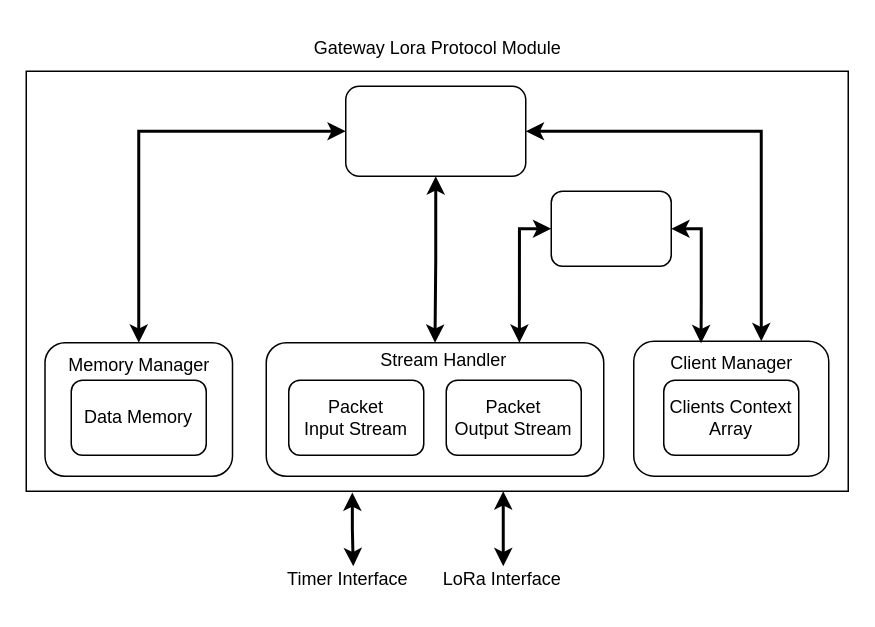
This 875x627 diagram has some shape labels left out. The shapes that lost their labels are listed below. From the top down, each one's centre as x and y in pixels, then its label:
pixel 435 130: Protocol Finite State Machine
pixel 610 228: Alive Checker
